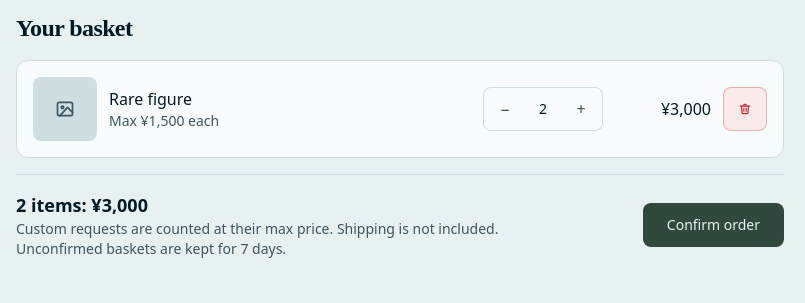
Test: BasketPage › keeps the basket and shows the error when confirming fails
This screenshot has width=805, height=303.
What coordinates should you click on to do the following:
click the button "Confirm order"
I would click on:
 (713, 225)
Its box is 643,203 -> 784,247.
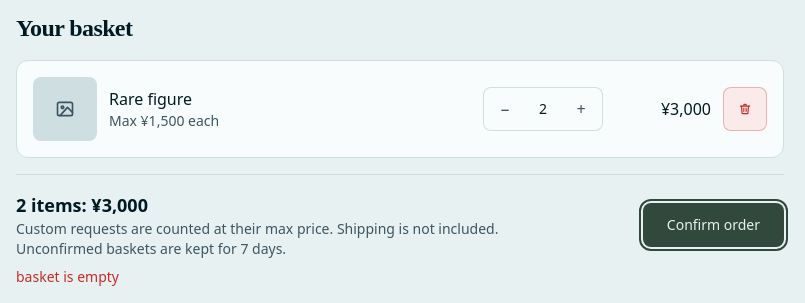
Expected: the text "Rare figure" is shown, 109,88 -> 192,110
Expected: the text "basket is empty" is shown, 16,267 -> 119,286
